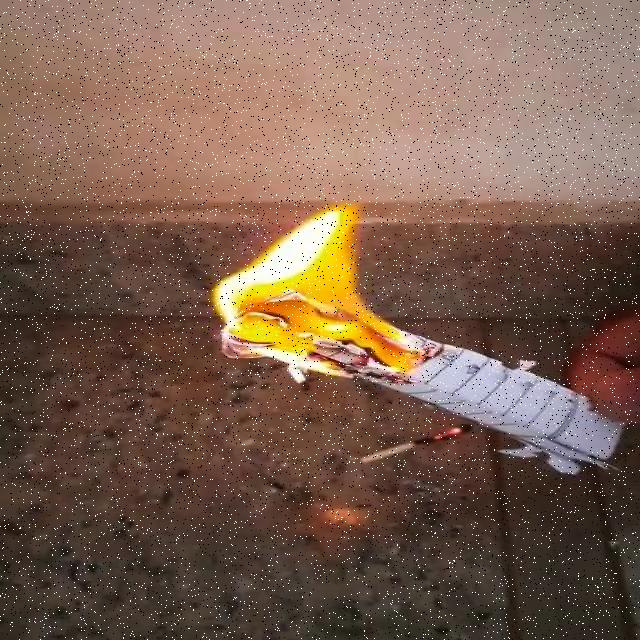fire: (212, 177, 429, 387)
